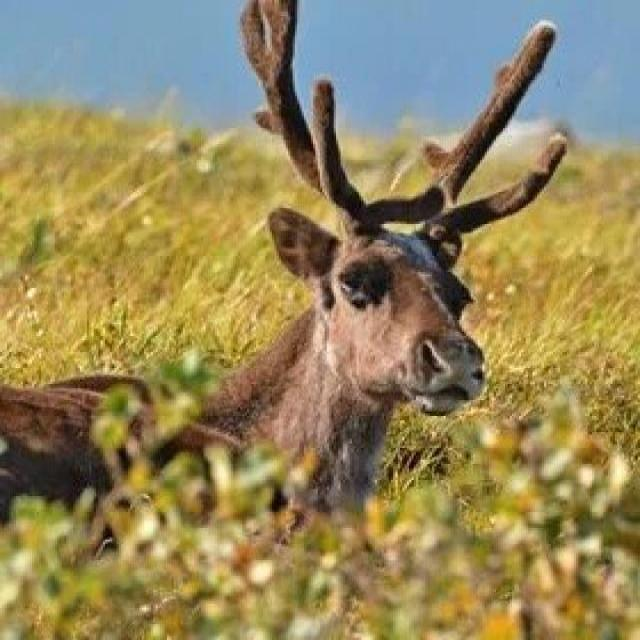deer: (128, 120, 618, 592)
